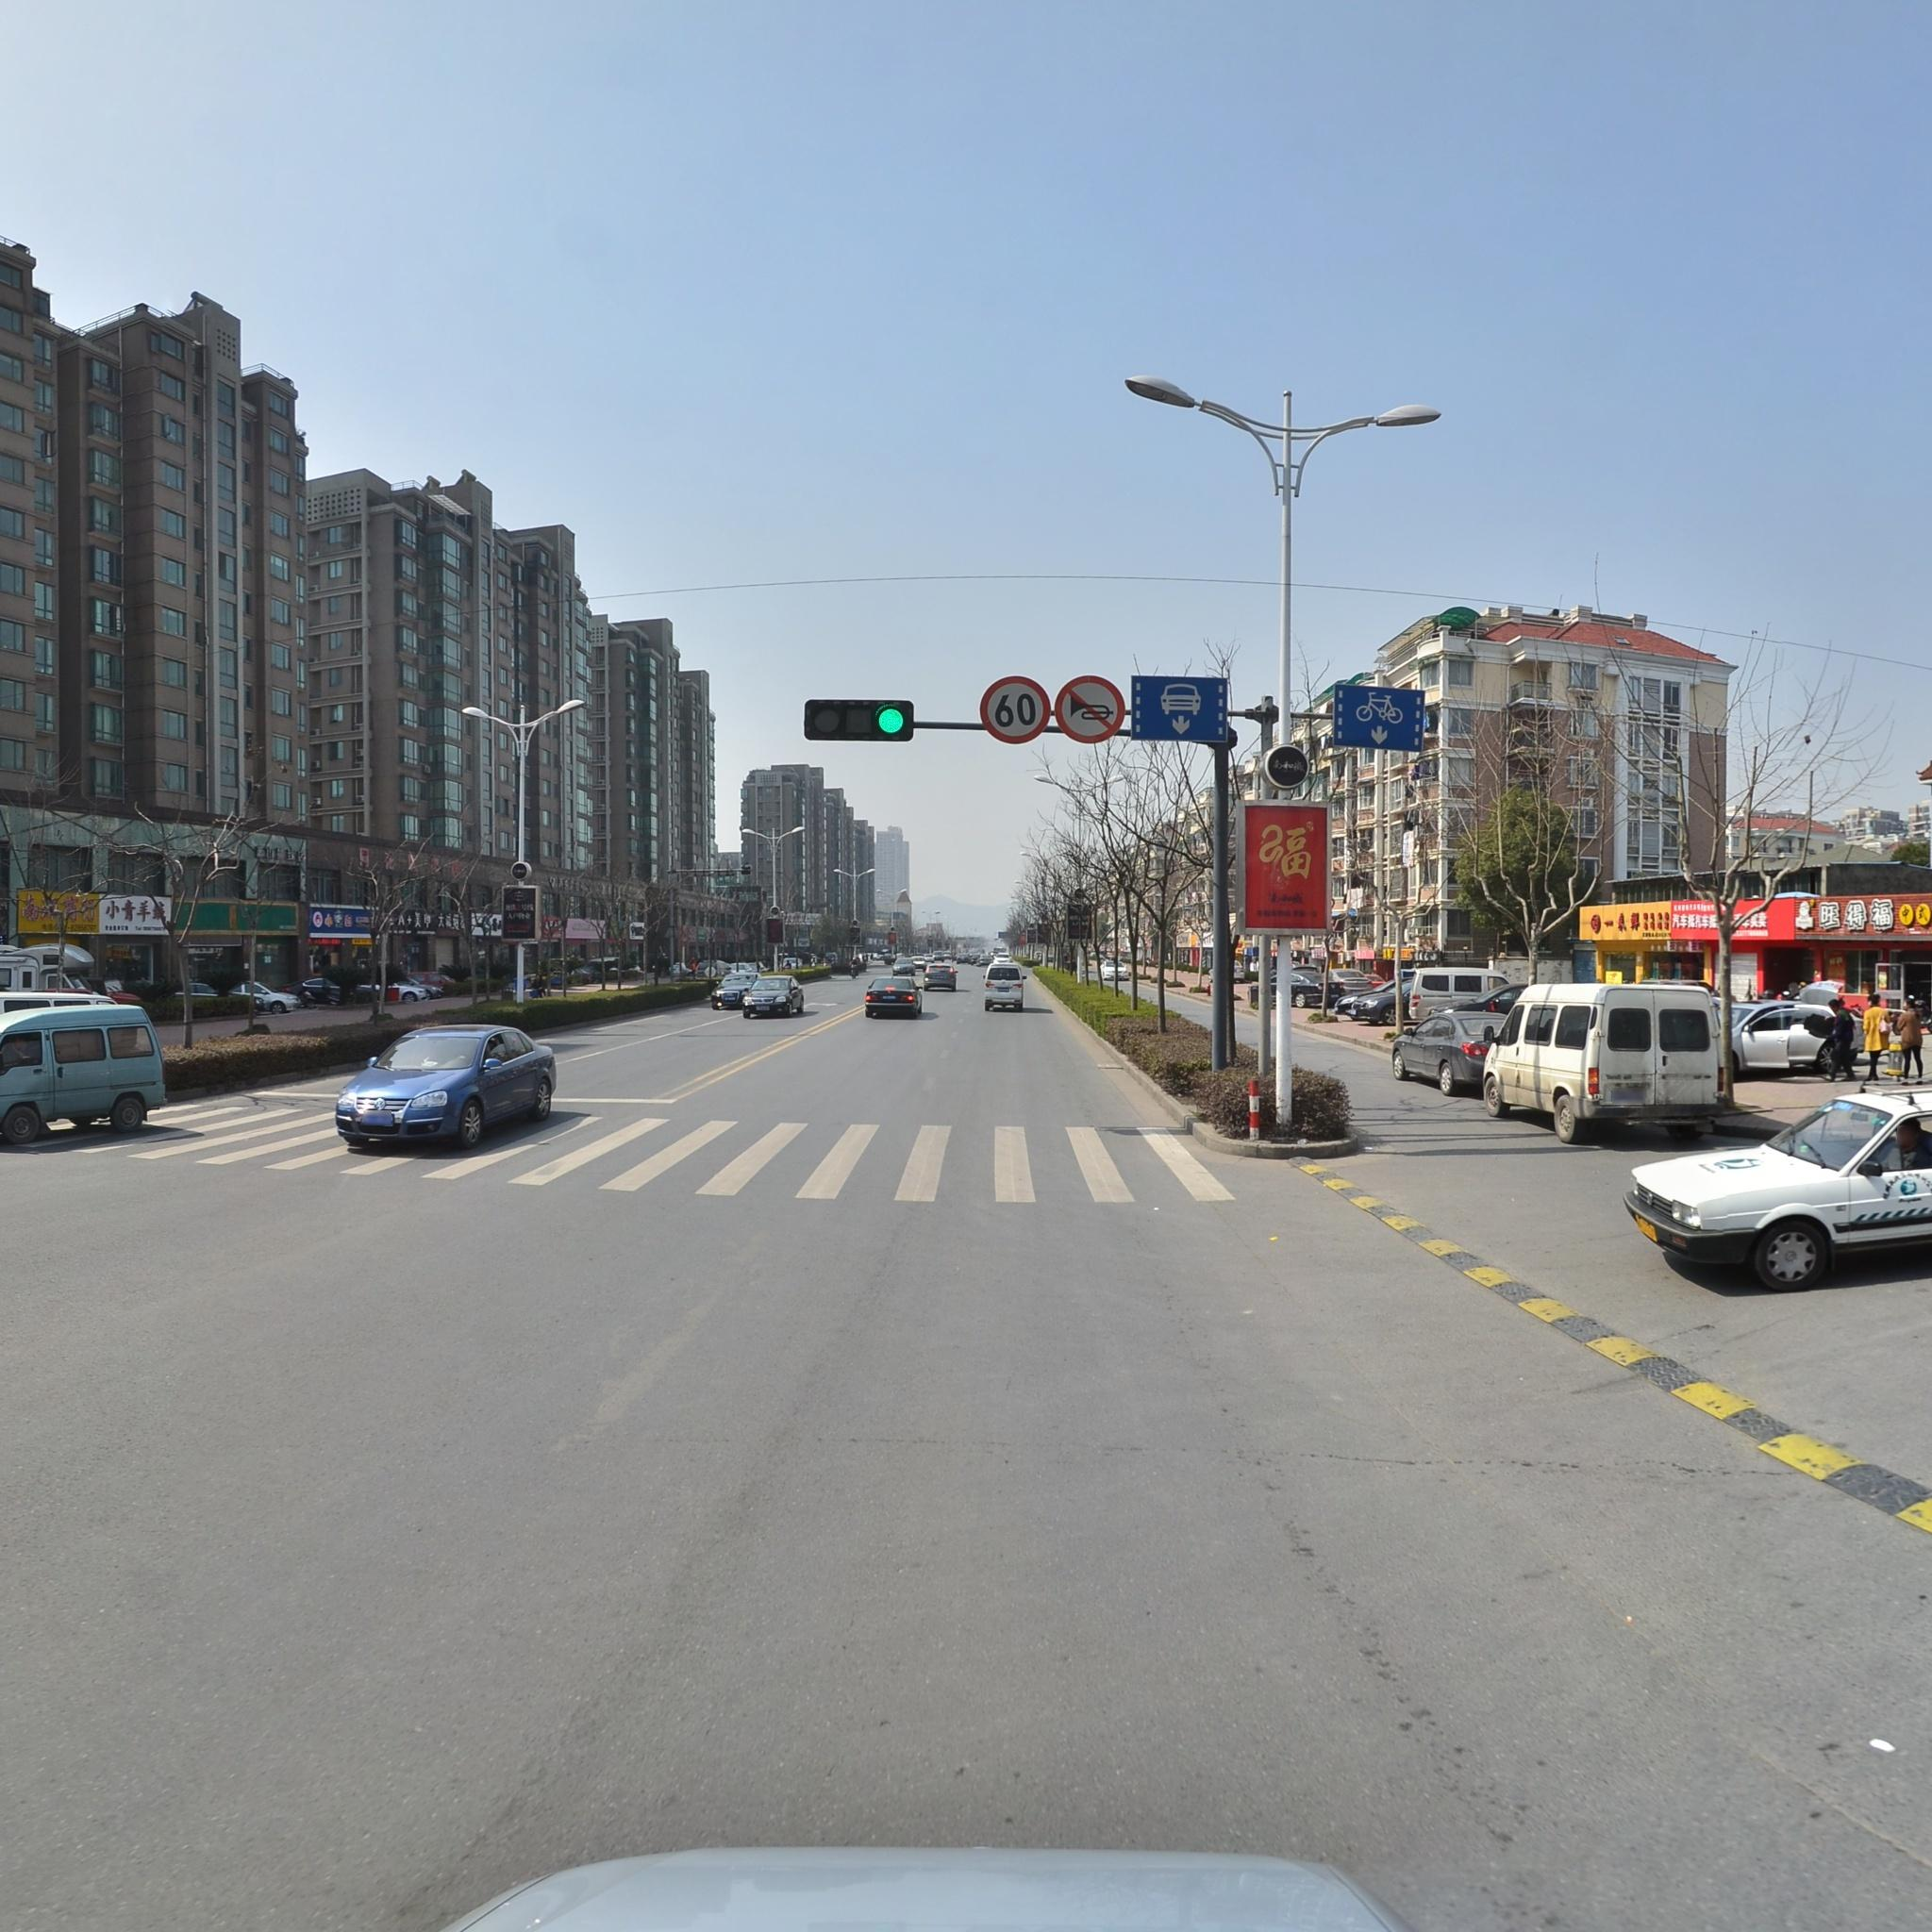p11: (1063, 674, 1129, 747)
pl60: (984, 674, 1047, 747)
